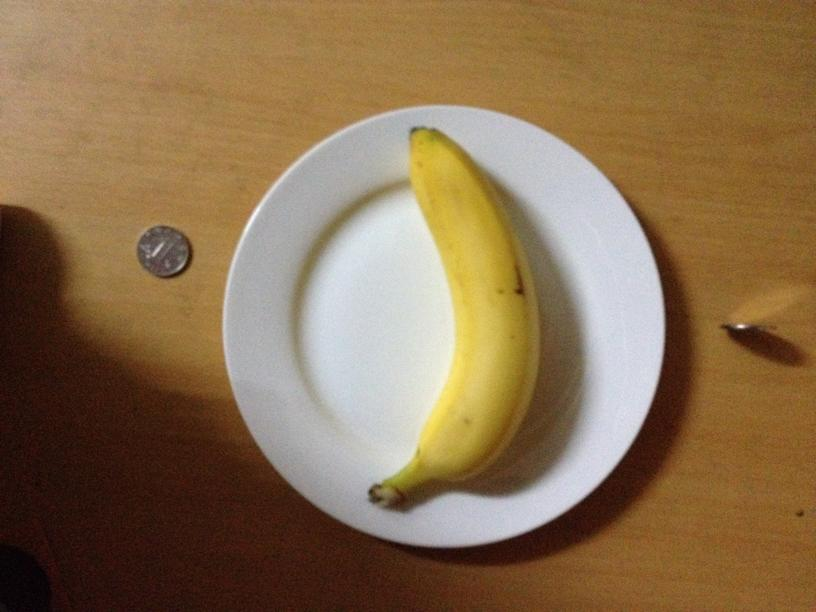banana: (380, 128, 543, 503)
coin: (134, 224, 194, 277)
